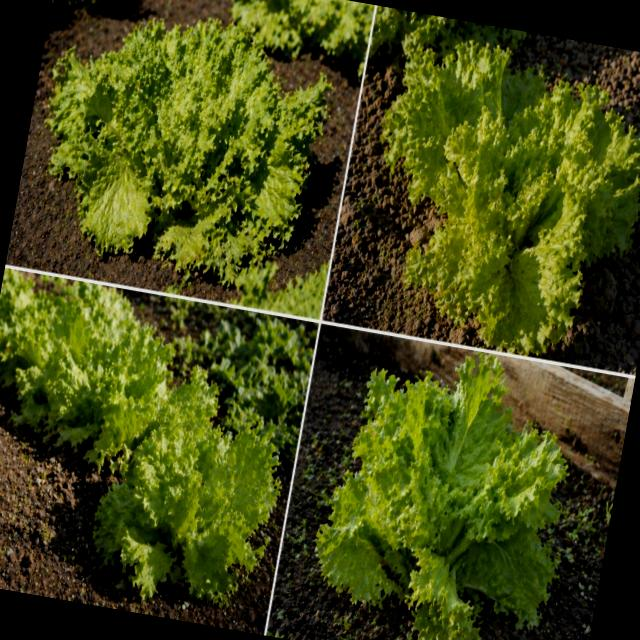lista_para_cosechar: (381, 43, 640, 354), (46, 19, 331, 285), (315, 356, 566, 640), (93, 367, 278, 605), (15, 282, 172, 474)
